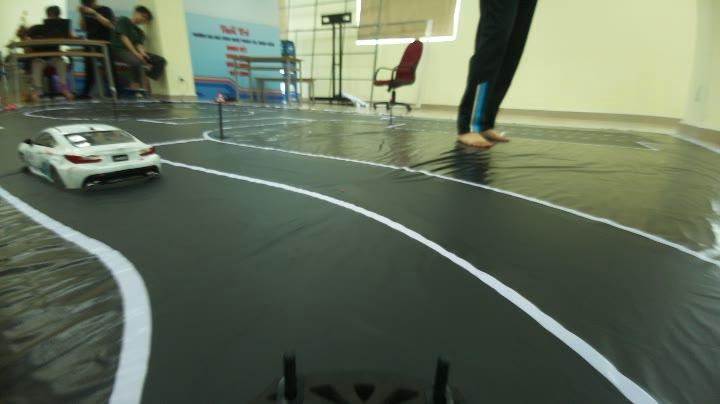car: (22, 115, 162, 195)
